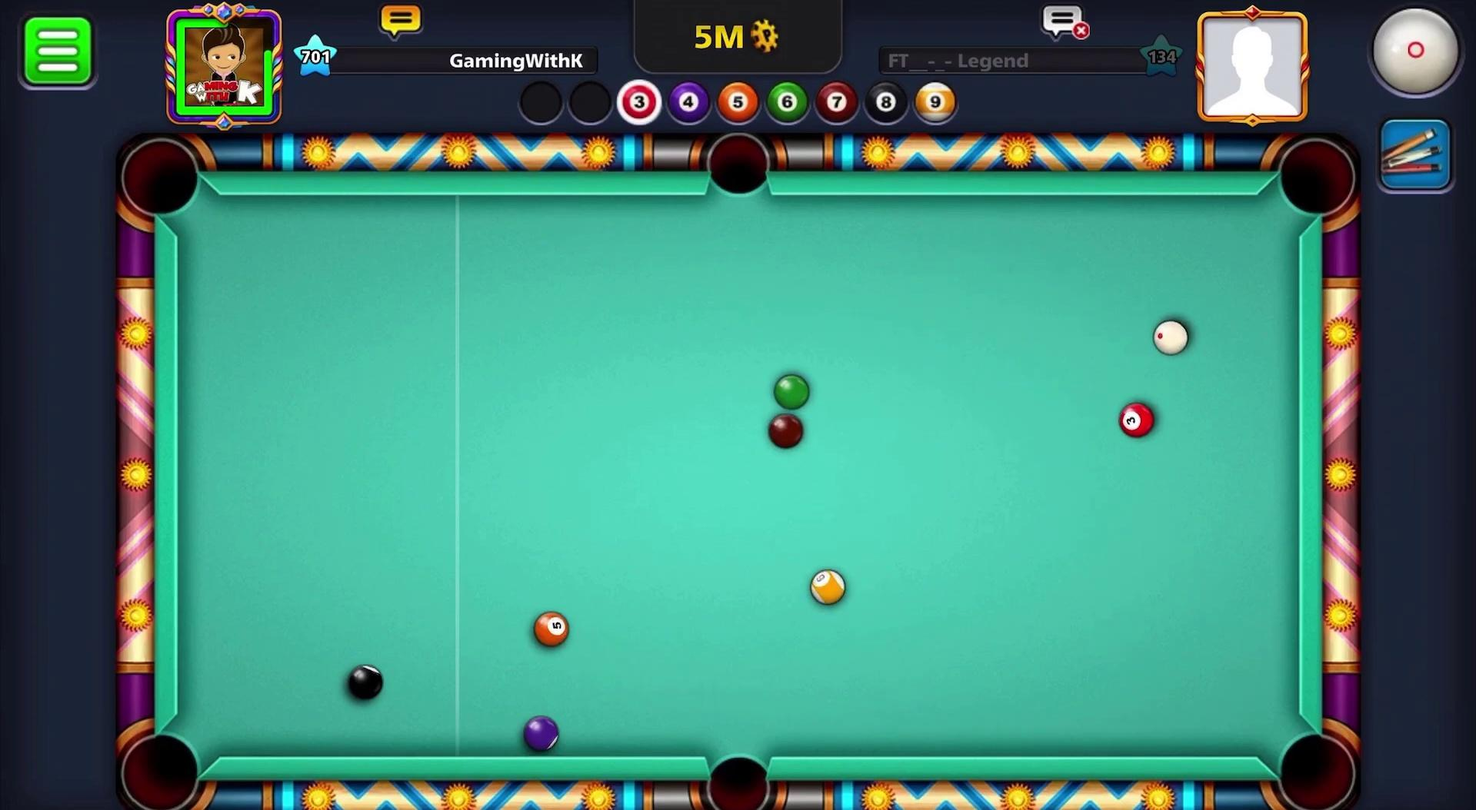Ball: (760, 361, 819, 413), (525, 604, 572, 656), (337, 662, 391, 705), (762, 407, 809, 456), (806, 563, 849, 612), (515, 712, 563, 755), (1116, 398, 1155, 441)
Hole: (108, 128, 213, 231), (109, 713, 214, 809), (1268, 130, 1364, 232), (1264, 717, 1364, 809), (700, 124, 779, 204), (693, 738, 782, 809)
Play_Area: (173, 193, 1296, 760)
Spin: (1351, 0, 1475, 114)
White: (1150, 313, 1194, 361)
